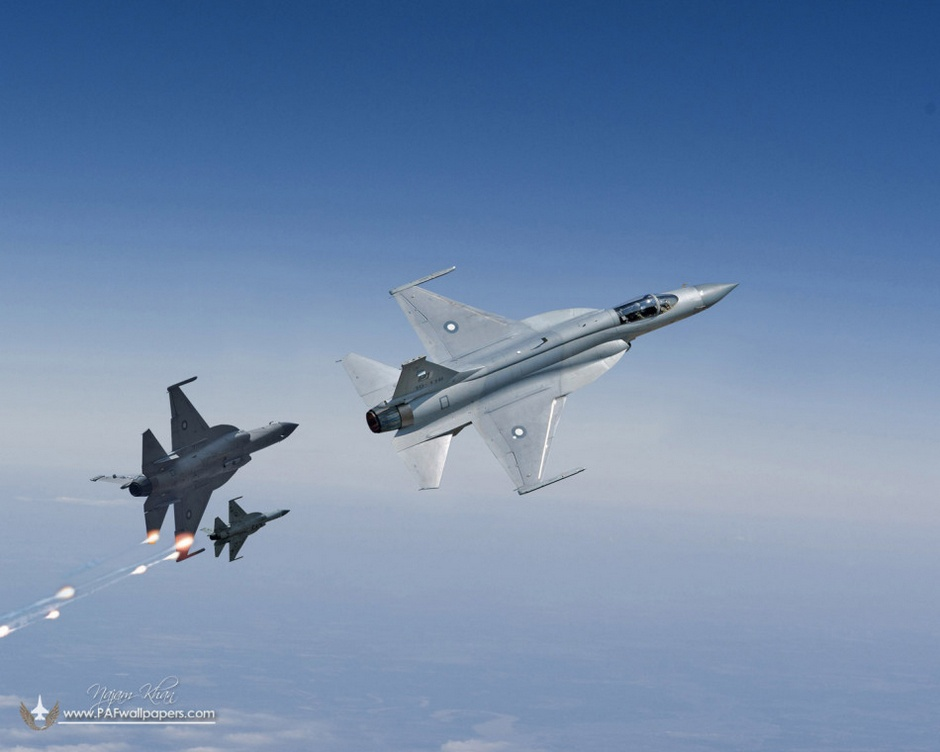airplane: (332, 258, 737, 500), (92, 375, 299, 554), (191, 506, 289, 566)
